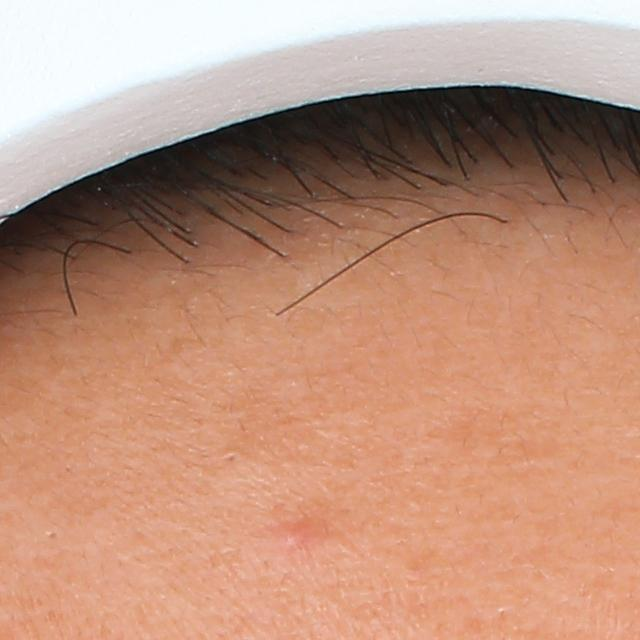comedo: (223, 453, 237, 466), (46, 529, 58, 542)
papule: (271, 516, 306, 557)
